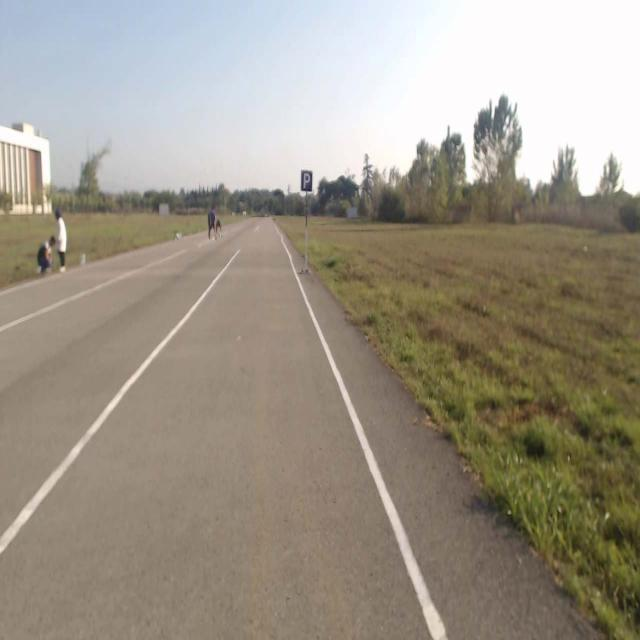park: (301, 170, 312, 191)
